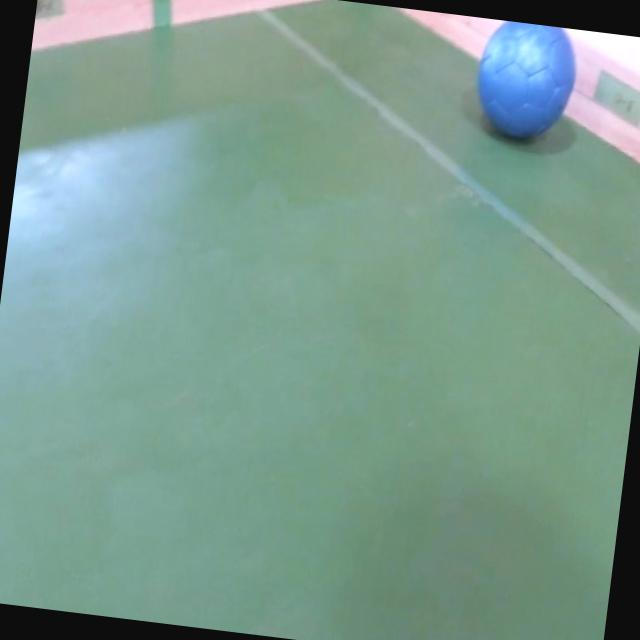blue_ball: (472, 18, 580, 149)
